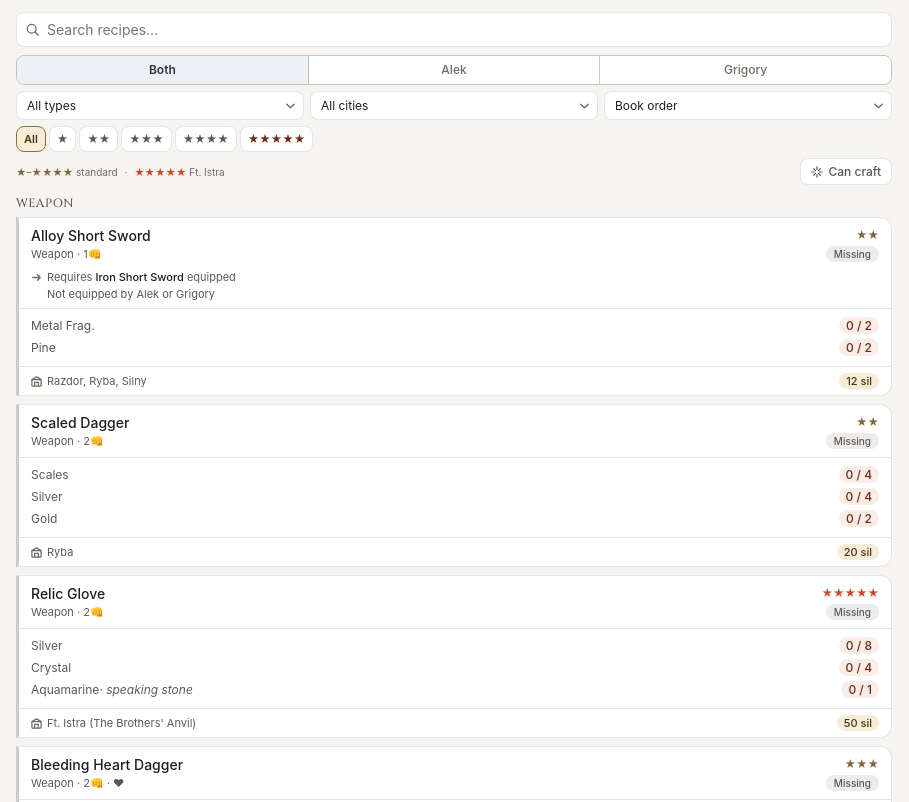
Test: CraftTab — upgrade comparison › shows the gain over the equipped weapon and highlights it
The image size is (909, 802).
Click the button "Grigory" at point(746, 70), box [600,56,891,84]
(page scrolled)
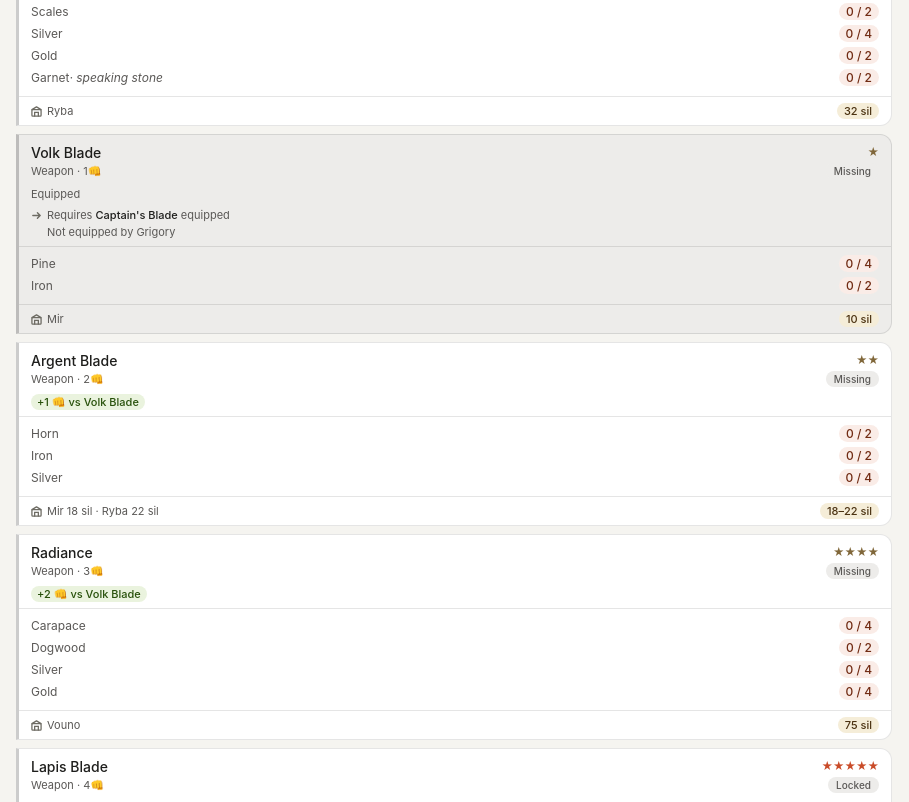
Now the element with class "craft-upgrade" reads "+1 👊 vs Volk Blade", box [37,395,139,409]
